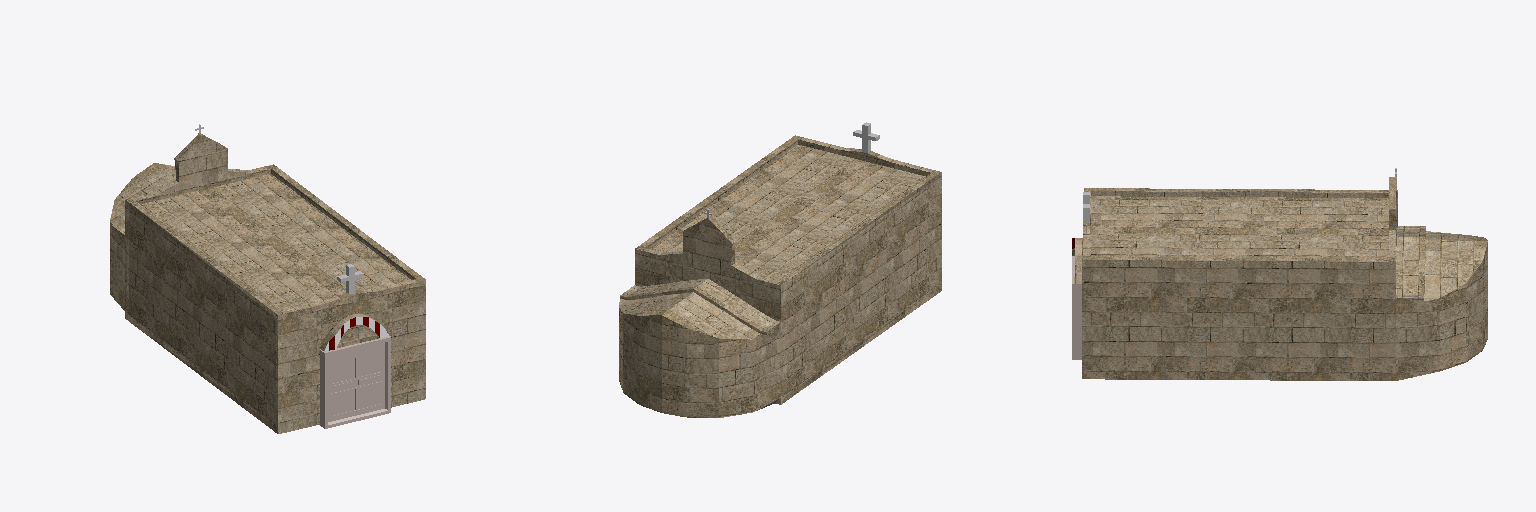
3 renders of one model, left to right at view 1: azimuth 30°, elevation 25°; view 2: azimuth 150°, elevation 25°; view 3: azimuth 270°, elevation 25°, orthographic.
Visible parts, largest first — view 1: ChurchMain, Door; view 2: ChurchMain; view 3: ChurchMain, Door.
Boxes of the visible parts, x1,y1,x2,y2 form: ChurchMain: [110, 133, 425, 433]; Door: [320, 336, 390, 428]; ChurchMain: [619, 135, 941, 417]; ChurchMain: [1072, 177, 1487, 380]; Door: [1072, 256, 1081, 359].
Size of the model in its own units: 1.56 by 1.74 by 3.7.
4 materials, 1 textured.